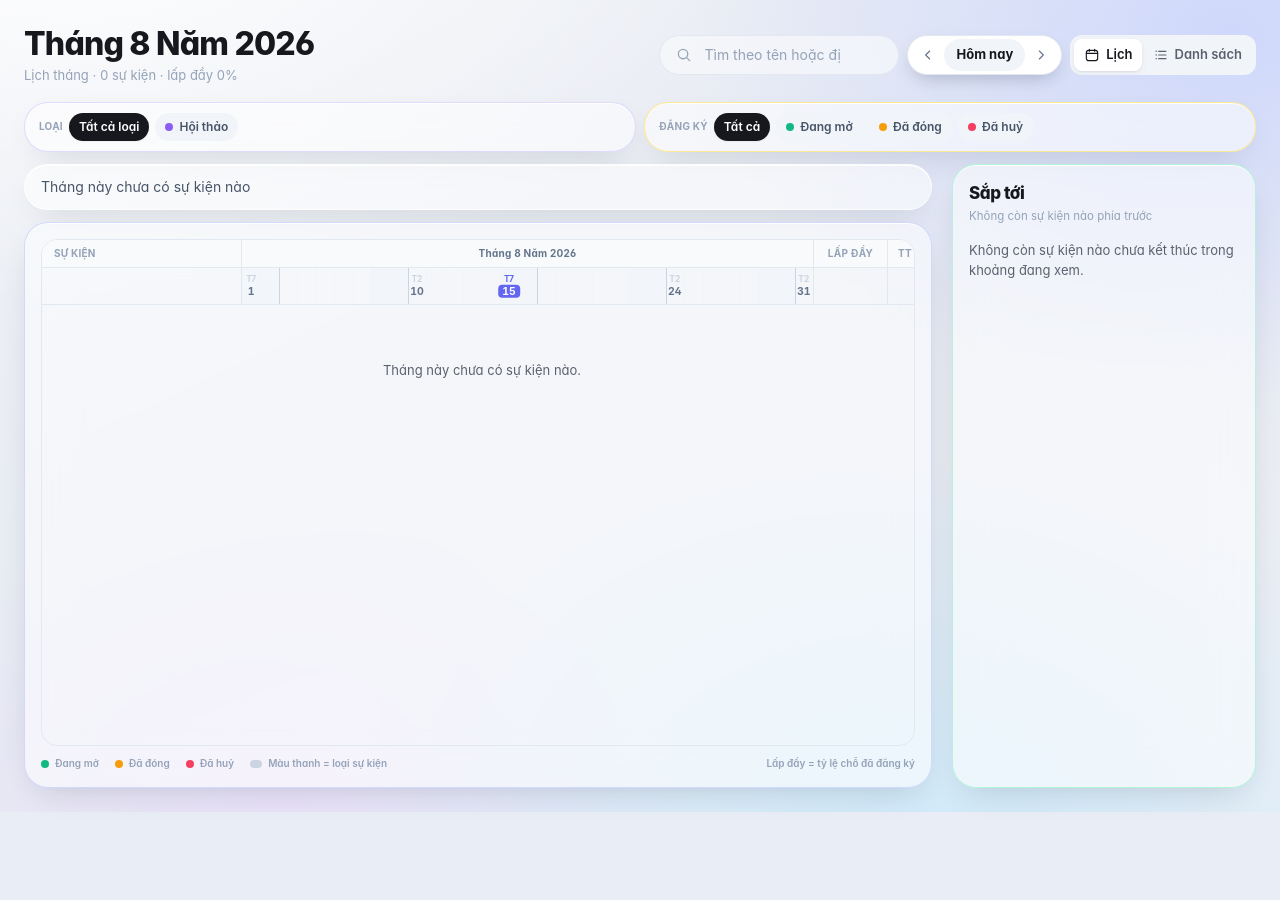
Test: EventListPage — chế độ lịch › chuyển sang tháng sau khi bấm điều hướng
Click the button named "Tháng sau". click: (1041, 55)
box: [1025,39,1057,71]
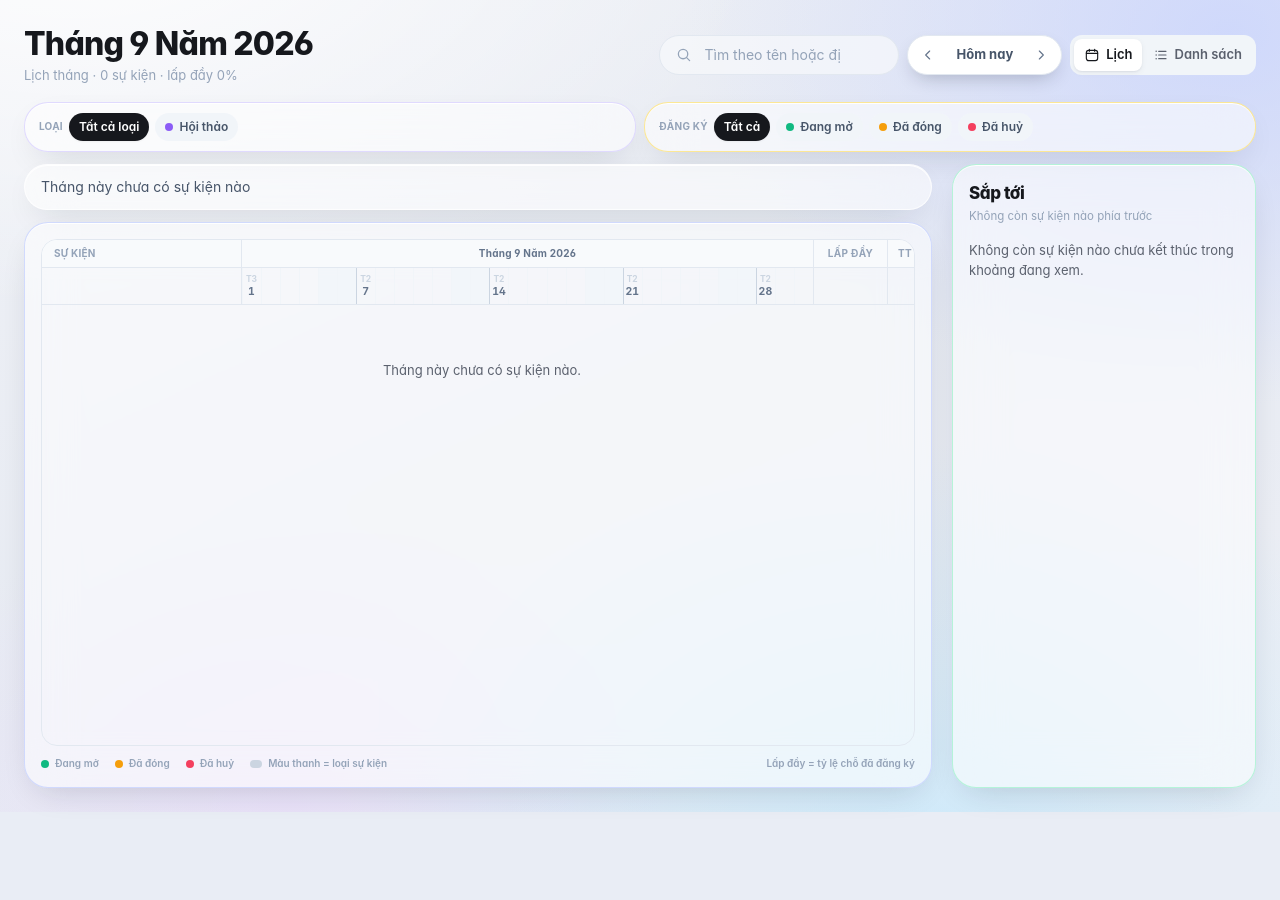
Expected: the heading "tháng 9 năm 2026" is shown, [24,24,313,63]
